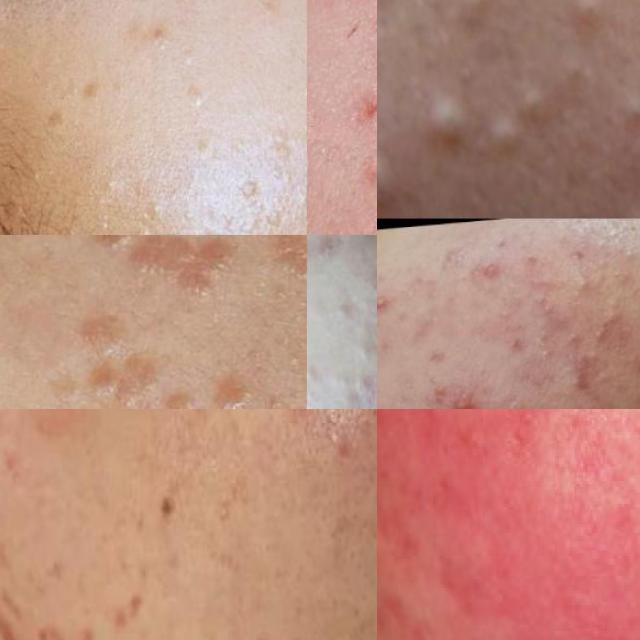acne_scars: (103, 581, 151, 640), (0, 575, 32, 640), (239, 618, 284, 640)
comedone: (475, 71, 563, 173), (412, 80, 480, 164), (541, 0, 625, 54), (445, 0, 505, 53), (316, 280, 366, 328), (204, 483, 243, 543), (377, 141, 407, 218), (609, 88, 640, 141), (84, 162, 130, 197), (560, 267, 600, 304), (615, 245, 640, 303), (586, 318, 620, 348), (472, 255, 508, 281), (531, 332, 557, 364), (345, 409, 377, 432), (438, 244, 466, 270), (613, 237, 640, 263), (536, 292, 560, 316), (617, 194, 640, 218), (562, 329, 586, 350), (496, 303, 514, 322)
flat_wart: (84, 235, 243, 305), (63, 307, 166, 409), (147, 0, 213, 51), (192, 367, 267, 409), (250, 235, 307, 289), (27, 101, 81, 140), (75, 68, 119, 108), (151, 381, 206, 409), (230, 169, 264, 207), (164, 93, 223, 113)
papule: (548, 370, 600, 397), (436, 388, 494, 409)
pustule: (377, 291, 397, 326)
